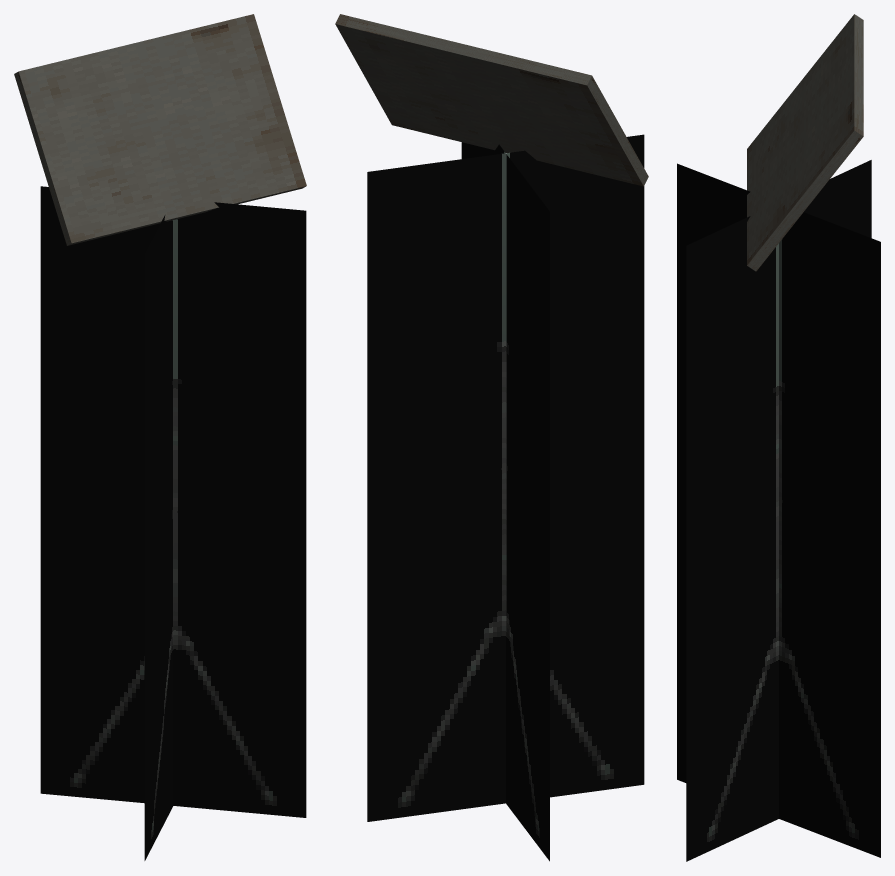
The model's file is prop_musicstand-6.glb.
3 views of the same model, side by side, from view 1: azimuth 30°, elevation 25°; view 2: azimuth 150°, elevation 25°; view 3: azimuth 270°, elevation 25° (orthographic). The views are drawn at different scales.
Visible parts, largest first — view 1: prop_musicstand-6; view 2: prop_musicstand-6; view 3: prop_musicstand-6.
Part boxes in pixels (<box>): prop_musicstand-6: <box>14,14,306,860</box>; prop_musicstand-6: <box>335,14,648,861</box>; prop_musicstand-6: <box>677,14,880,861</box>.
Bounding box in the file's own units: 0.48 × 1.43 × 0.3551.
2 materials, 2 textured.
